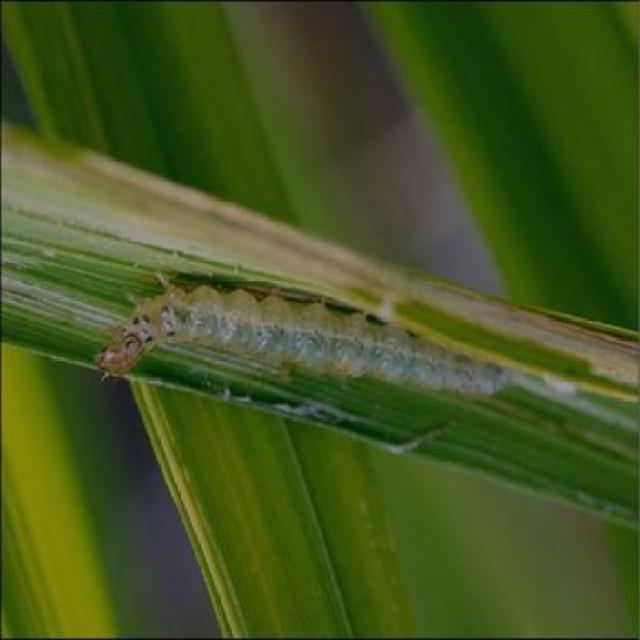leaf-folder: (76, 230, 553, 445)
